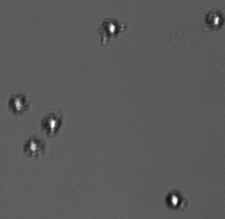Living Cell: (25, 139, 44, 157), (10, 95, 28, 112), (102, 19, 118, 38), (166, 191, 182, 209), (45, 115, 59, 133), (209, 13, 223, 28)
